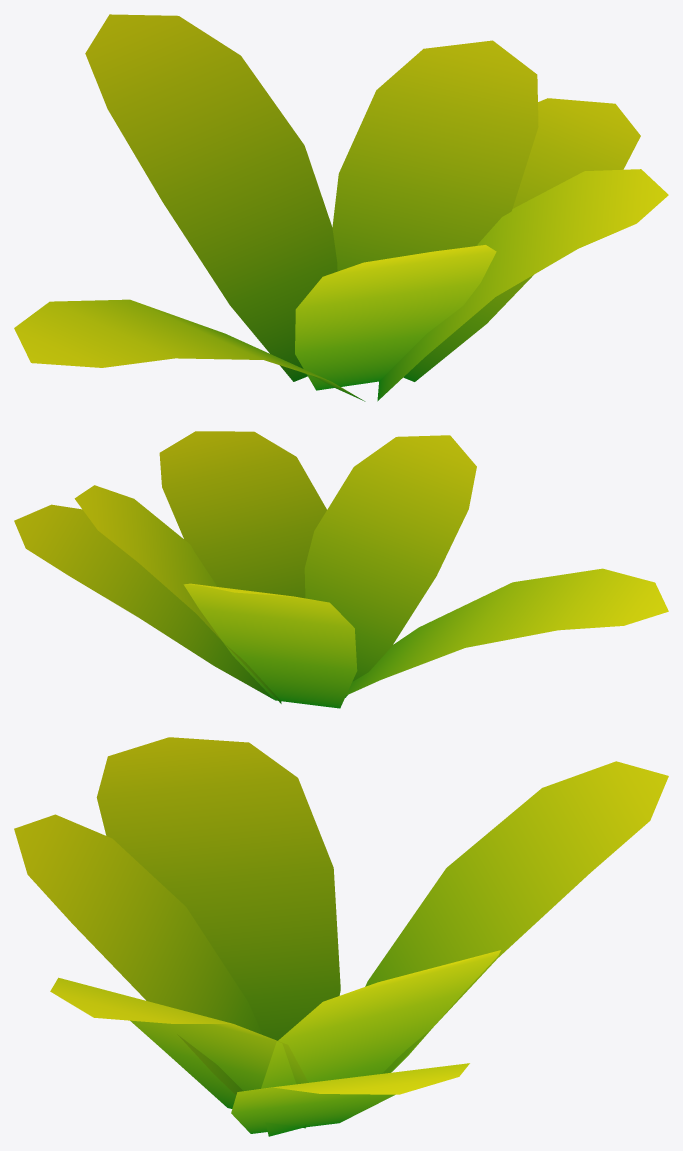
The model's file is grass_leaf_large.glb.
3 views of the same model, one above another, from view 1: azimuth 30°, elevation 25°; view 2: azimuth 150°, elevation 25°; view 3: azimuth 270°, elevation 25° (orthographic). The views are drawn at different scales.
Parts seen in each view (by area): view 1: grass_leaf_large; view 2: grass_leaf_large; view 3: grass_leaf_large.
Part boxes in pixels (x1,y1,x2,y2): grass_leaf_large: (14, 14, 668, 401); grass_leaf_large: (14, 431, 668, 708); grass_leaf_large: (14, 737, 668, 1136).
Bounding box in the file's own units: 0.235 × 0.0852 × 0.1728.
